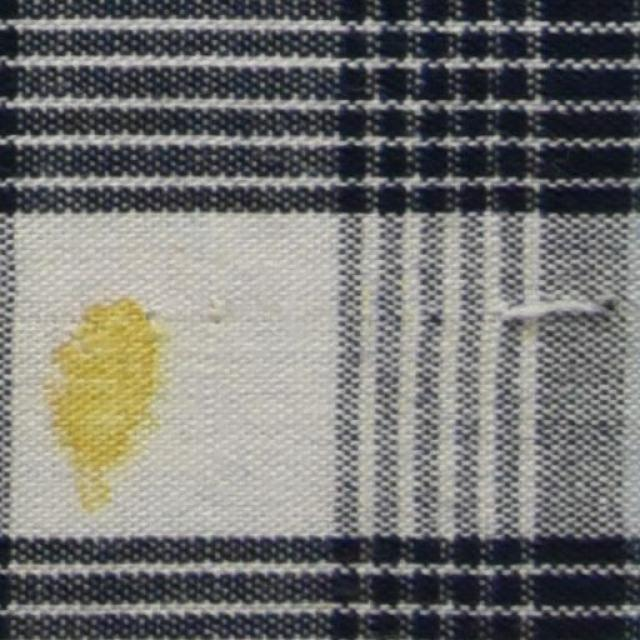Stain: (41, 299, 160, 502)
